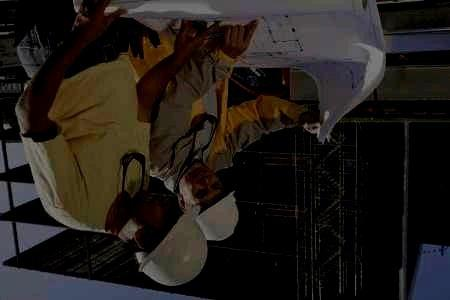helmet: (124, 176, 208, 287), (181, 164, 239, 241)
